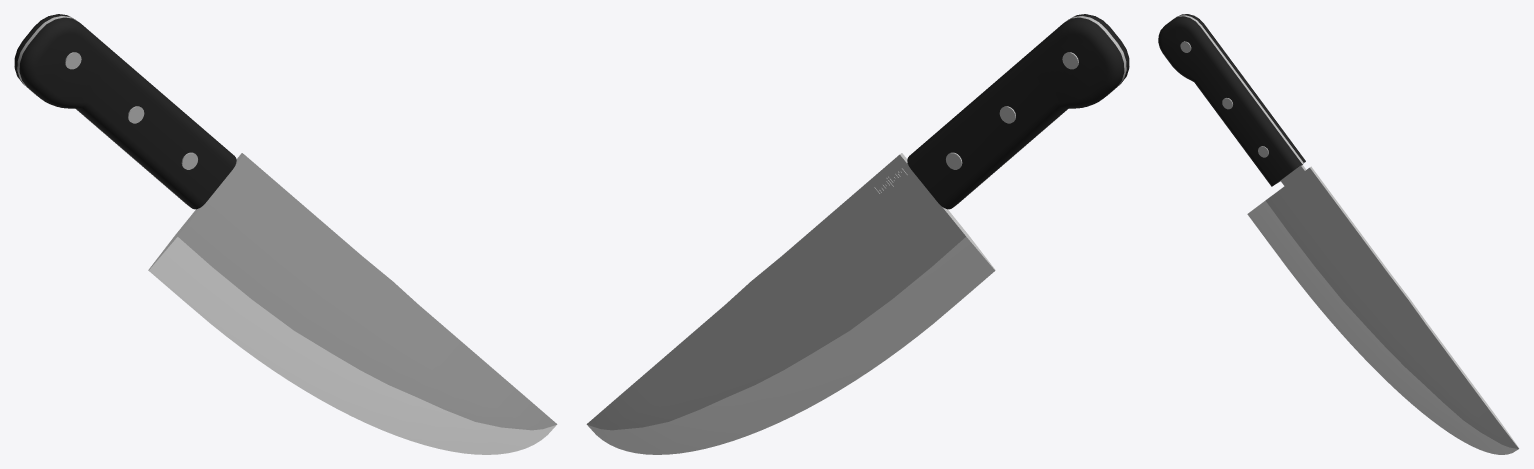
The model's file is kitchen_knife.fbx.
The picture shows the model from 3 angles, left to right: view 1: azimuth 30°, elevation 25°; view 2: azimuth 150°, elevation 25°; view 3: azimuth 330°, elevation 25°; orthographic projection. The views are drawn at different scales.
Parts seen in each view (by area): view 1: Cube.454; view 2: Cube.454; view 3: Cube.454.
Part boxes in pixels (x1=…): Cube.454: x1=14, y1=14, x2=557, y2=454; Cube.454: x1=586, y1=14, x2=1129, y2=454; Cube.454: x1=1158, y1=14, x2=1519, y2=454.
Size of the model in its own units: 231 by 224 by 13.54.
Materials: 1 (1 with a texture image).
